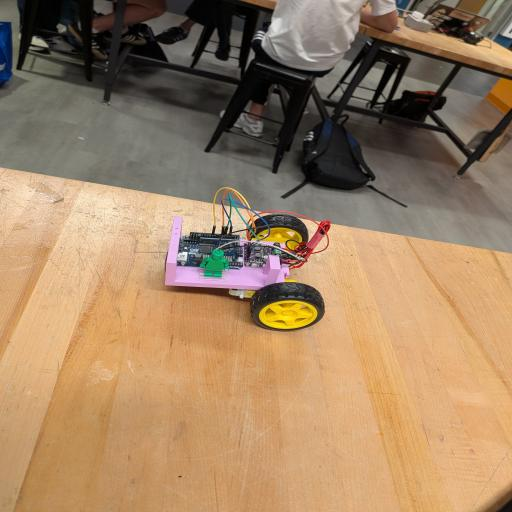Minifig: (200, 249, 229, 278)
